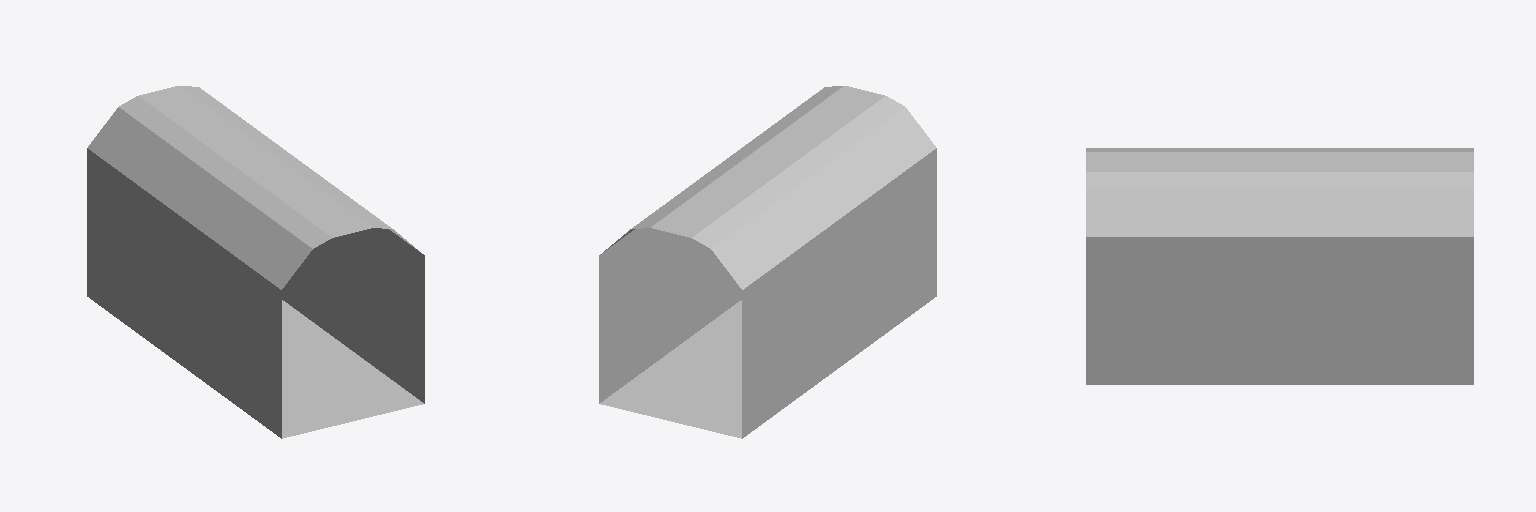
Rendered from coridor_part_1_1.obj.
The picture shows the model from 3 angles: view 1: azimuth 30°, elevation 25°; view 2: azimuth 150°, elevation 25°; view 3: azimuth 270°, elevation 25°; orthographic projection.
Parts seen in each view (by area): view 1: Object003; view 2: Object003; view 3: Object003.
Boxes of the visible parts, x1,y1,x2,y2 form: Object003: [87, 86, 424, 438]; Object003: [599, 86, 936, 438]; Object003: [1086, 148, 1473, 384].
Bounding box in the file's own units: 382 × 481 × 900.